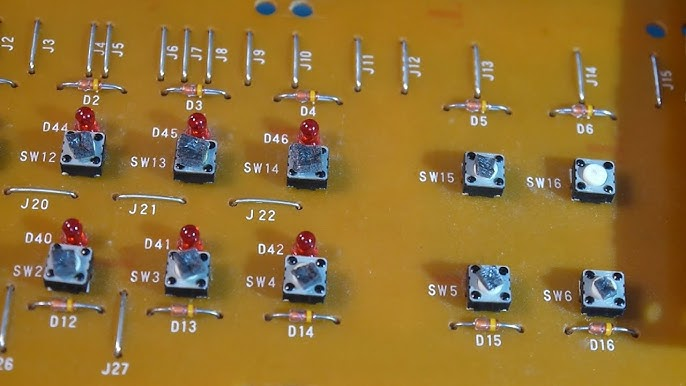Button: (63, 127, 120, 180), (571, 150, 622, 202), (464, 256, 513, 309), (278, 252, 331, 300), (462, 150, 512, 200), (172, 133, 223, 179), (572, 268, 625, 310), (168, 250, 216, 296), (289, 142, 334, 191), (44, 243, 95, 285)
Zener_Diode: (46, 294, 81, 317), (583, 316, 615, 336), (478, 316, 502, 341), (285, 306, 317, 324), (179, 79, 207, 99), (294, 89, 321, 105), (468, 99, 496, 114), (77, 78, 105, 92)
